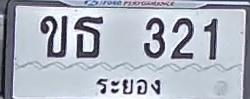1: (204, 18, 218, 60)
2: (170, 17, 194, 59)
3: (143, 17, 165, 58)
A02: (40, 15, 67, 57)
A24: (74, 16, 104, 58)
RYG: (88, 72, 169, 96)
